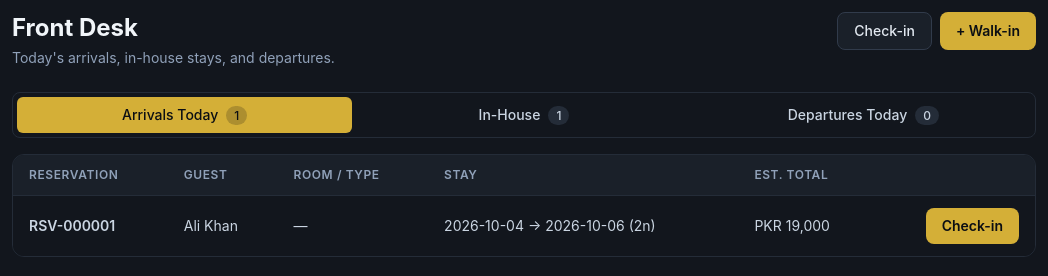
FrontDeskPage › shows in-house stays when switching to the In-House tab
Click the tab "In-House1" at point(524, 115), box [356,97,692,133]
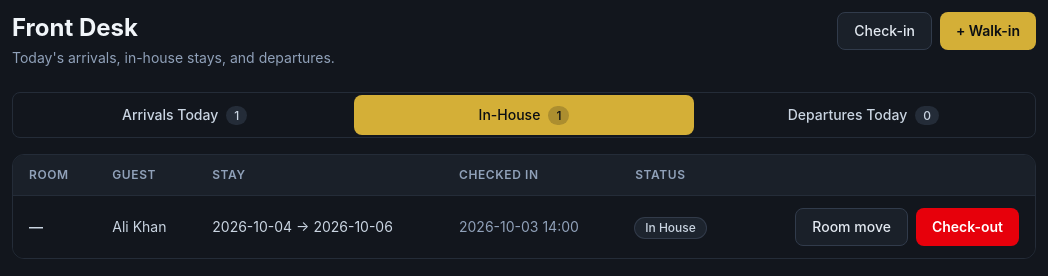
Expected: the text "Ali Khan" is shown, [96,196,196,258]
Expected: the button "Check-out" is shown, [916,208,1019,246]
Expected: the button "Room move" is shown, [795,208,908,246]
